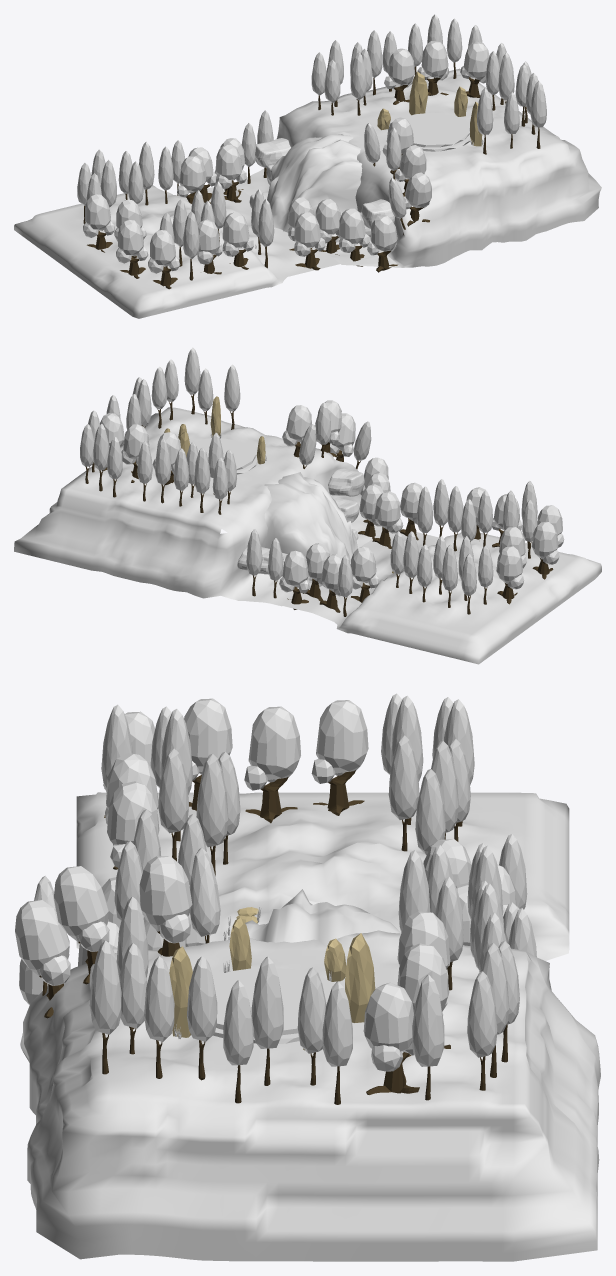
The model's file is Blocagem_3.fbx.
3 views of the same model, one above another, from view 1: azimuth 30°, elevation 25°; view 2: azimuth 150°, elevation 25°; view 3: azimuth 270°, elevation 25° (orthographic). The views are drawn at different scales.
Parts seen in each view (by area): view 1: Montanha, Montanha.001, Montanha.002, Circle, Arvore.055, Arvore.060, Arvore.062, Arvore.064, Arvore.058, Arvore.004, Arvore.003, Arvore.051 (+43 smaller); view 2: Montanha, Montanha.001, Montanha.002, Arvore.002, Arvore.005, Arvore.064, Arvore.062, Arvore.009, Circle, Arvore.054, Cube.005, Arvore.004 (+47 smaller); view 3: Montanha, Montanha.001, Montanha.002, Arvore.063, Arvore.064, Arvore.007, Arvore.054, Arvore.049, Arvore.050, Circle, Arvore.062, Arvore.043 (+46 smaller).
Boxes of the visible parts, bbox=[...] form: Montanha: bbox=[235, 68, 601, 267]; Montanha.001: bbox=[14, 185, 339, 318]; Montanha.002: bbox=[267, 134, 362, 232]; Circle: bbox=[403, 112, 470, 151]; Arvore.055: bbox=[294, 212, 325, 270]; Arvore.060: bbox=[148, 230, 180, 289]; Arvore.062: bbox=[116, 220, 148, 278]; Arvore.064: bbox=[83, 194, 115, 252]; Arvore.058: bbox=[222, 212, 253, 269]; Arvore.004: bbox=[215, 145, 246, 202]; Arvore.003: bbox=[339, 208, 369, 266]; Arvore.051: bbox=[367, 215, 397, 272]; Montanha: bbox=[14, 407, 382, 606]; Montanha.001: bbox=[281, 528, 601, 664]; Montanha.002: bbox=[264, 472, 357, 577]; Arvore.002: bbox=[279, 550, 309, 609]; Arvore.005: bbox=[372, 491, 403, 548]; Arvore.064: bbox=[496, 546, 523, 604]; Arvore.062: bbox=[531, 522, 559, 579]; Arvore.009: bbox=[350, 547, 379, 602]; Circle: bbox=[190, 438, 257, 474]; Arvore.054: bbox=[282, 405, 311, 457]; Cube.005: bbox=[328, 468, 364, 496]; Arvore.004: bbox=[302, 543, 329, 601]; Montanha: bbox=[20, 930, 600, 1261]; Montanha.001: bbox=[76, 792, 569, 960]; Montanha.002: bbox=[245, 889, 401, 946]; Arvore.063: bbox=[244, 706, 300, 823]; Arvore.064: bbox=[311, 700, 368, 815]; Arvore.007: bbox=[363, 982, 419, 1094]; Arvore.054: bbox=[139, 856, 192, 956]; Arvore.049: bbox=[15, 900, 70, 1018]; Arvore.050: bbox=[54, 866, 109, 984]; Circle: bbox=[213, 967, 334, 1043]; Arvore.062: bbox=[184, 698, 232, 810]; Arvore.043: bbox=[89, 940, 121, 1074].
Size of the model in its own units: 1952 by 578 by 1083.
